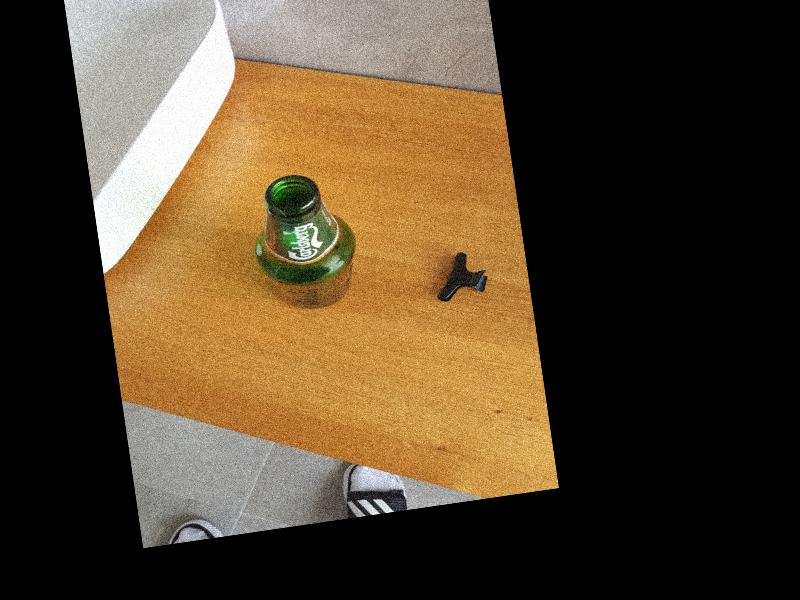Beer: (243, 168, 364, 316)
